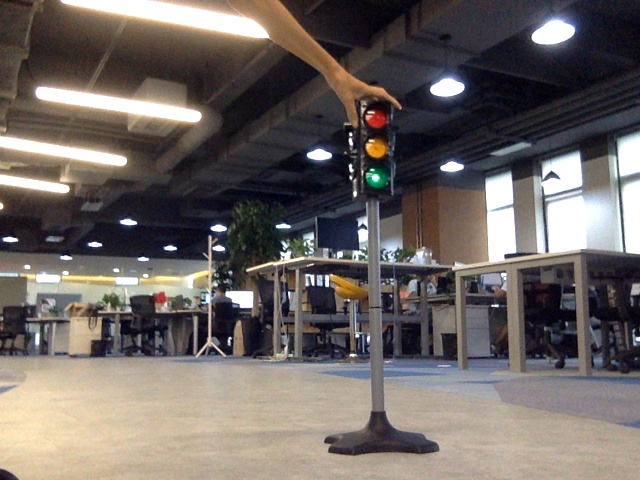green: (361, 105, 389, 189)
